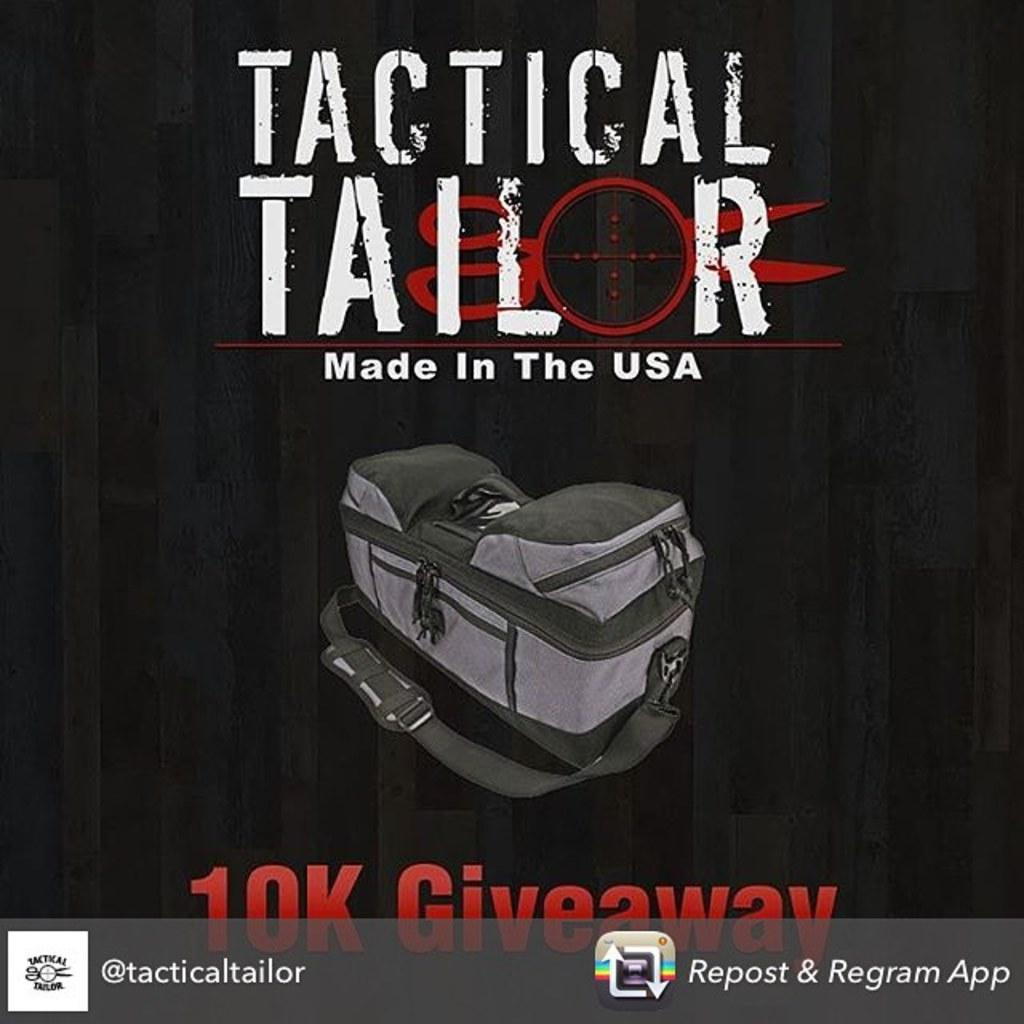Luggage-and-bags: (304, 445, 726, 786)
